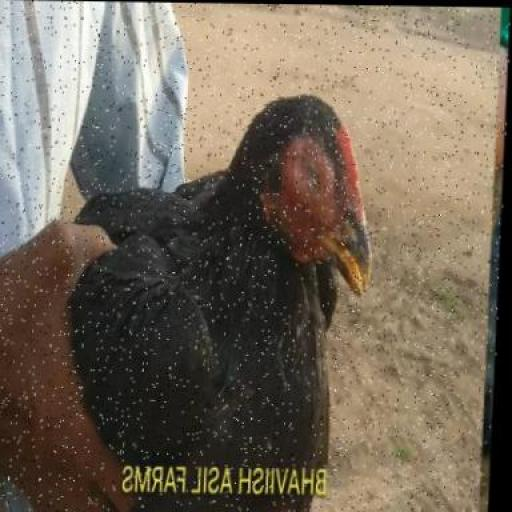disease: (278, 114, 329, 196)
